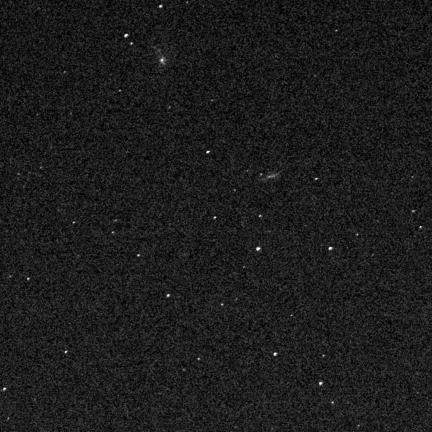blob: (256, 247, 261, 251), (167, 294, 171, 298), (319, 382, 323, 386), (206, 151, 211, 154), (125, 34, 129, 37), (329, 247, 333, 250), (274, 353, 277, 356)
